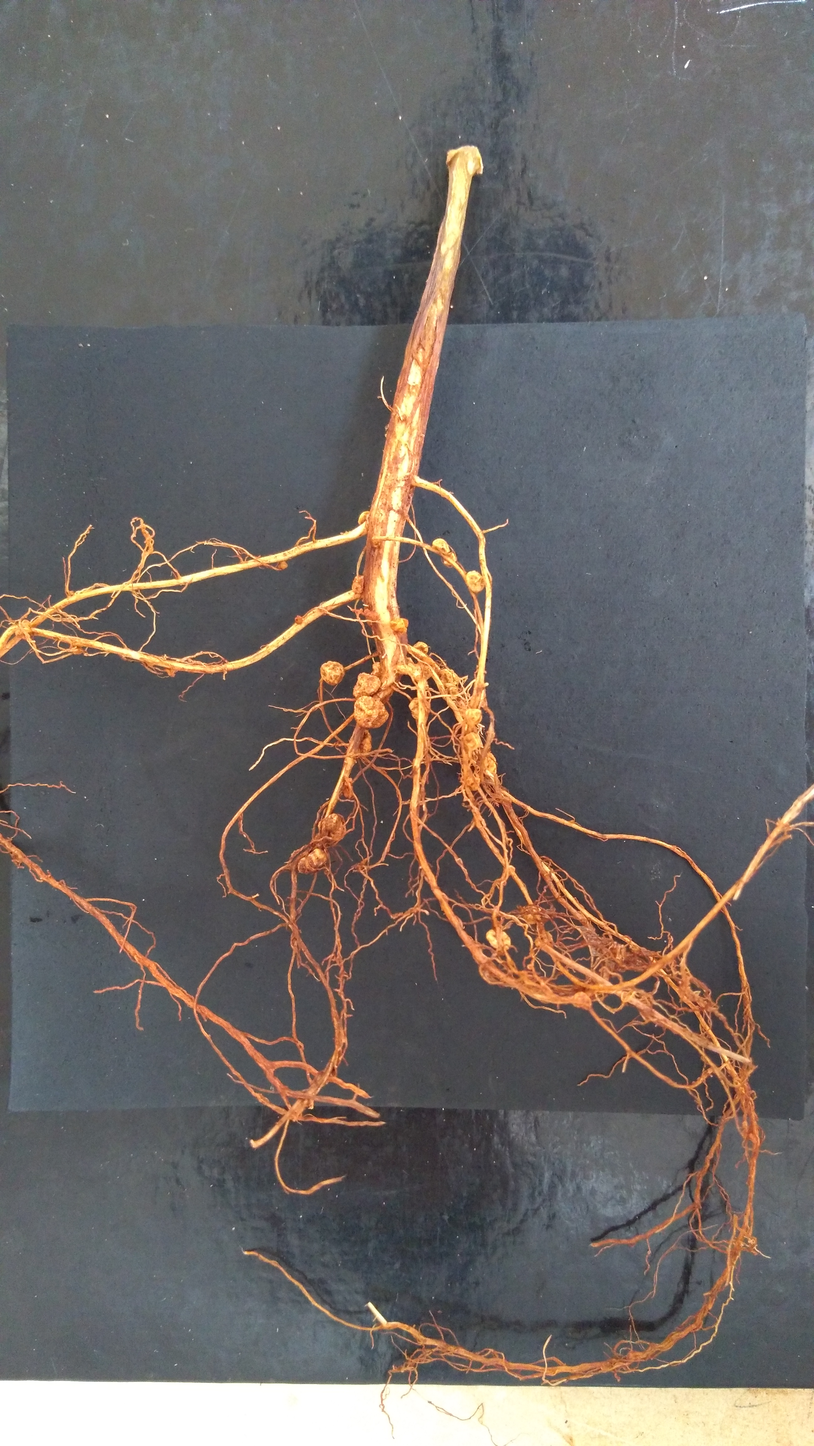nodule: (353, 696, 389, 729), (317, 813, 346, 844), (297, 848, 328, 875), (595, 937, 626, 962), (353, 673, 381, 700), (432, 538, 456, 566), (320, 661, 345, 686), (486, 928, 511, 950), (409, 697, 431, 720), (407, 663, 436, 680), (465, 570, 485, 592), (479, 752, 496, 777), (462, 732, 483, 752), (521, 905, 543, 924), (15, 619, 34, 641), (438, 669, 460, 687), (571, 991, 591, 1010), (390, 618, 409, 637), (463, 771, 480, 792), (358, 730, 371, 757), (442, 682, 460, 700), (465, 708, 483, 726), (535, 932, 554, 949), (412, 642, 428, 659), (364, 608, 378, 627), (351, 575, 364, 594), (342, 781, 354, 799), (370, 662, 382, 677), (358, 511, 370, 525), (70, 645, 84, 654), (748, 1236, 757, 1248), (505, 865, 515, 875), (277, 561, 288, 570), (405, 657, 414, 666), (294, 616, 302, 625), (67, 590, 75, 598)
